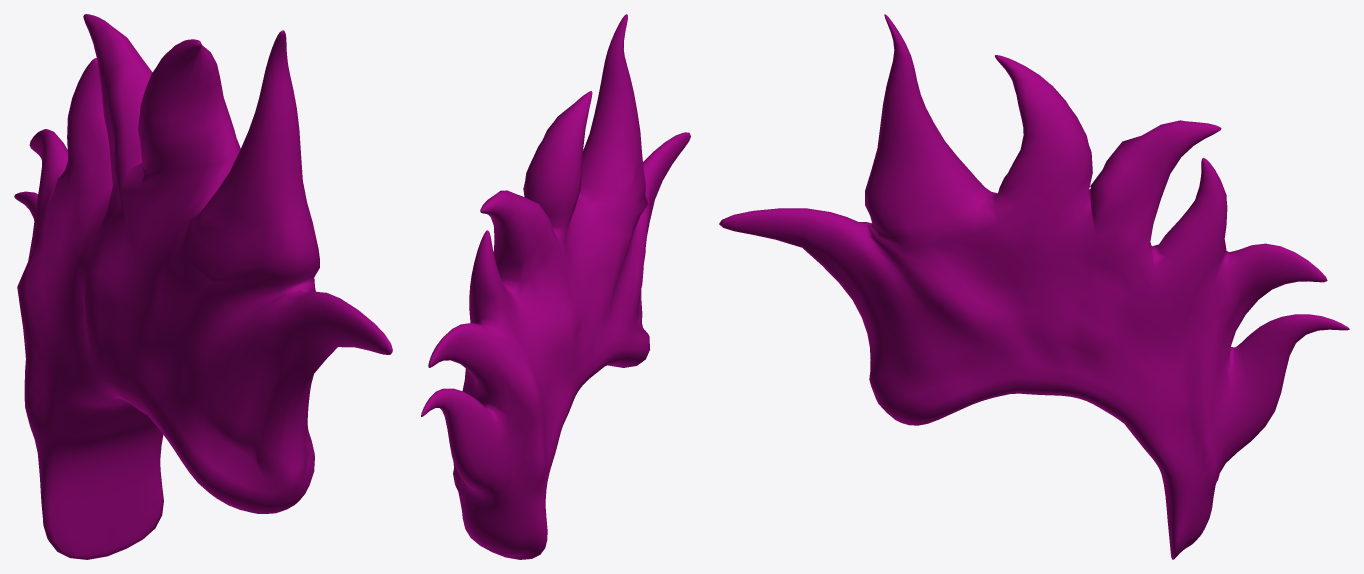
Rendered from Pink_Hair.fbx.
The picture shows the model from 3 angles, left to right: view 1: azimuth 30°, elevation 25°; view 2: azimuth 150°, elevation 25°; view 3: azimuth 270°, elevation 25°; orthographic projection. The views are drawn at different scales.
Parts seen in each view (by area): view 1: Pink_Hair_Melee; view 2: Pink_Hair_Melee; view 3: Pink_Hair_Melee.
Boxes of the visible parts, x1,y1,x2,y2 form: Pink_Hair_Melee: (14,14,392,559); Pink_Hair_Melee: (421,14,690,559); Pink_Hair_Melee: (719,14,1349,559).
Bounding box in the file's own units: 33.04 × 158 × 168.
